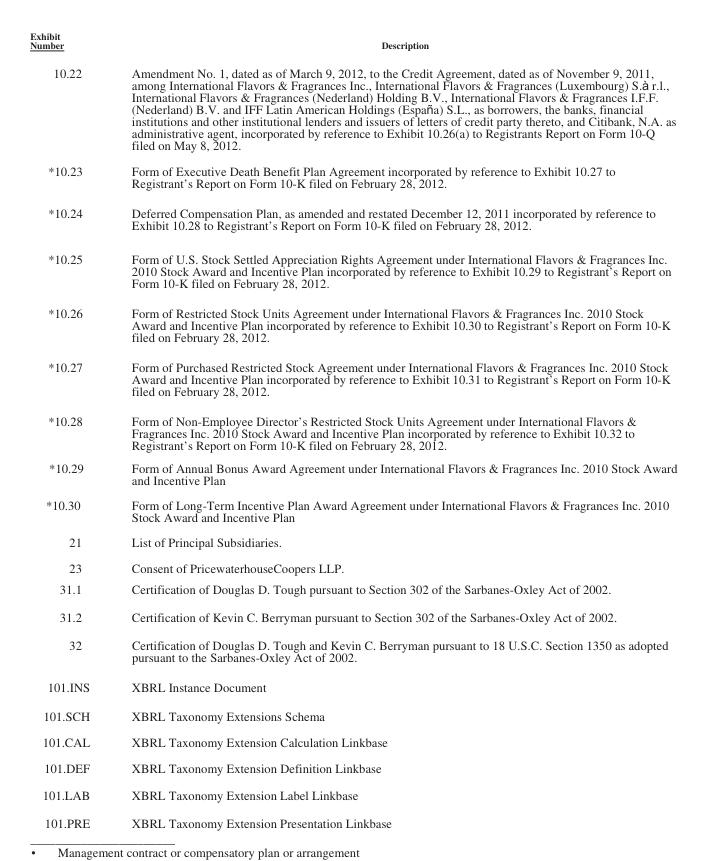table: (29, 28, 676, 830)
table column: (110, 28, 676, 830), (29, 28, 110, 830)
table column header: (29, 28, 676, 57)
table row: (29, 57, 676, 157), (29, 241, 676, 297), (29, 297, 676, 351), (29, 351, 676, 405), (29, 405, 676, 455), (29, 197, 676, 241), (29, 629, 676, 670), (29, 157, 676, 197), (29, 491, 676, 529), (29, 455, 676, 491), (29, 670, 676, 700), (29, 28, 676, 57), (29, 602, 676, 629), (29, 700, 676, 727), (29, 727, 676, 754), (29, 780, 676, 807), (29, 754, 676, 780), (29, 529, 676, 554), (29, 577, 676, 602), (29, 554, 676, 577), (29, 807, 676, 830)
